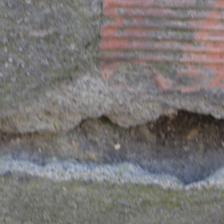Crack: (4, 106, 222, 188)
